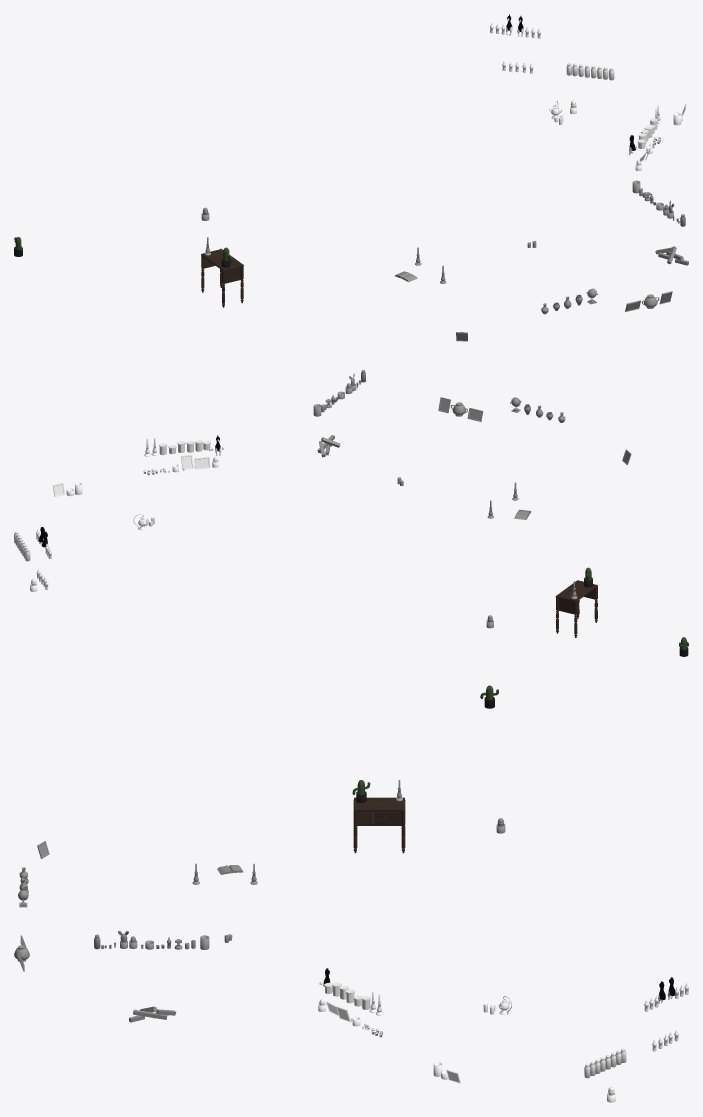
Rendered from Geosiil_objent_sujung.FBX.
3 views of the same model, one above another, from view 1: azimuth 30°, elevation 25°; view 2: azimuth 150°, elevation 25°; view 3: azimuth 270°, elevation 25° (orthographic). The views are drawn at different scales.
Parts seen in each view (by area): view 1: geosil_object_final_sujung, kitchen_obect_sujung, gesil_sunabjang_ggamuck_sujung; view 2: kitchen_obect_sujung, geosil_object_final_sujung, gesil_sunabjang_ggamuck_sujung; view 3: kitchen_obect_sujung, geosil_object_final_sujung, gesil_sunabjang_ggamuck_sujung.
Part boxes in pixels (x1,y1,x2,y2): geosil_object_final_sujung: [201, 180, 688, 341]; kitchen_obect_sujung: [490, 14, 686, 170]; gesil_sunabjang_ggamuck_sujung: [201, 249, 243, 307]; kitchen_obect_sujung: [14, 435, 223, 591]; geosil_object_final_sujung: [313, 370, 631, 628]; gesil_sunabjang_ggamuck_sujung: [555, 580, 597, 637]; kitchen_obect_sujung: [318, 968, 688, 1102]; geosil_object_final_sujung: [14, 780, 505, 1022]; gesil_sunabjang_ggamuck_sujung: [353, 797, 405, 853].
Bounding box in the file's own units: 1580 × 215 × 1212.
